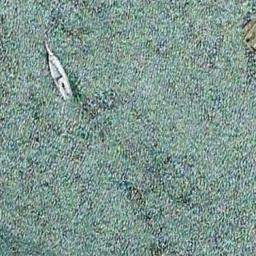boat: (43, 38, 73, 101)
